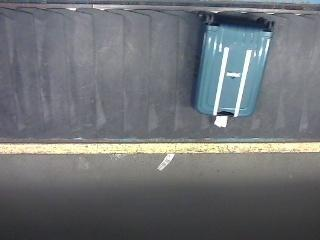Suitcase: (196, 15, 274, 127)
